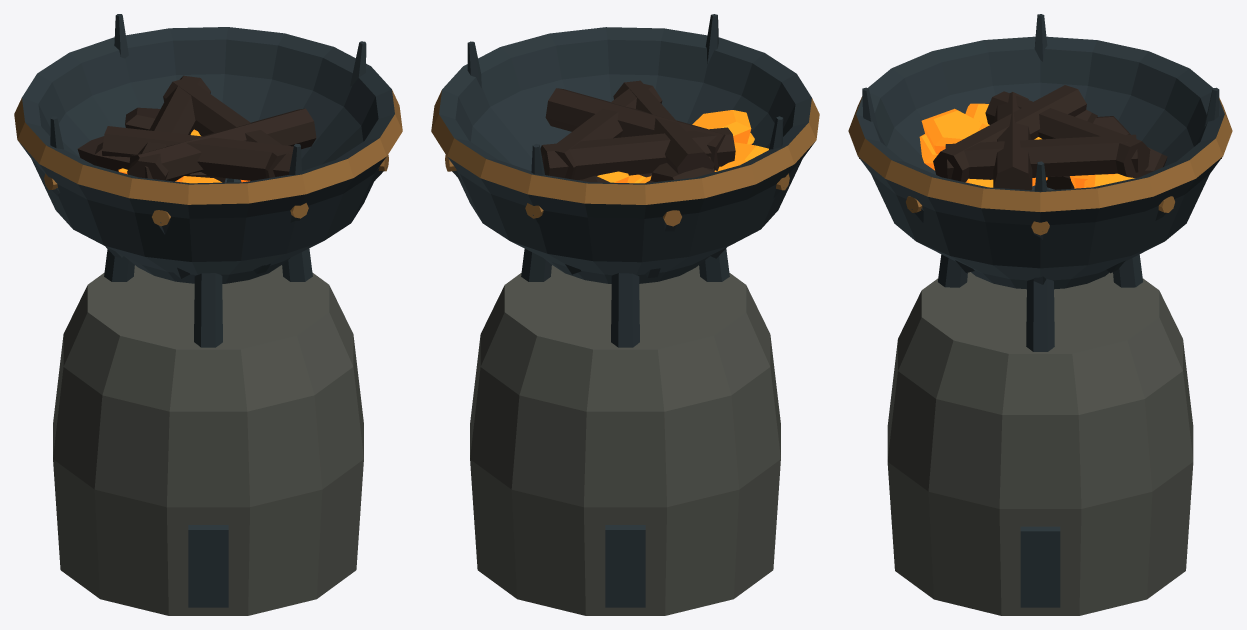
File: fire_bowl.glb
3 renders of one model, left to right at view 1: azimuth 30°, elevation 25°; view 2: azimuth 150°, elevation 25°; view 3: azimuth 270°, elevation 25°, orthographic.
Parts seen in each view (by area): view 1: fire_bowl.007; view 2: fire_bowl.007; view 3: fire_bowl.007.
Part boxes in pixels (x1,y1,x2,y2): fire_bowl.007: (14,14,402,615); fire_bowl.007: (431,14,819,615); fire_bowl.007: (848,14,1232,615).
Size of the model in its own units: 1.25 by 1.67 by 1.25.
